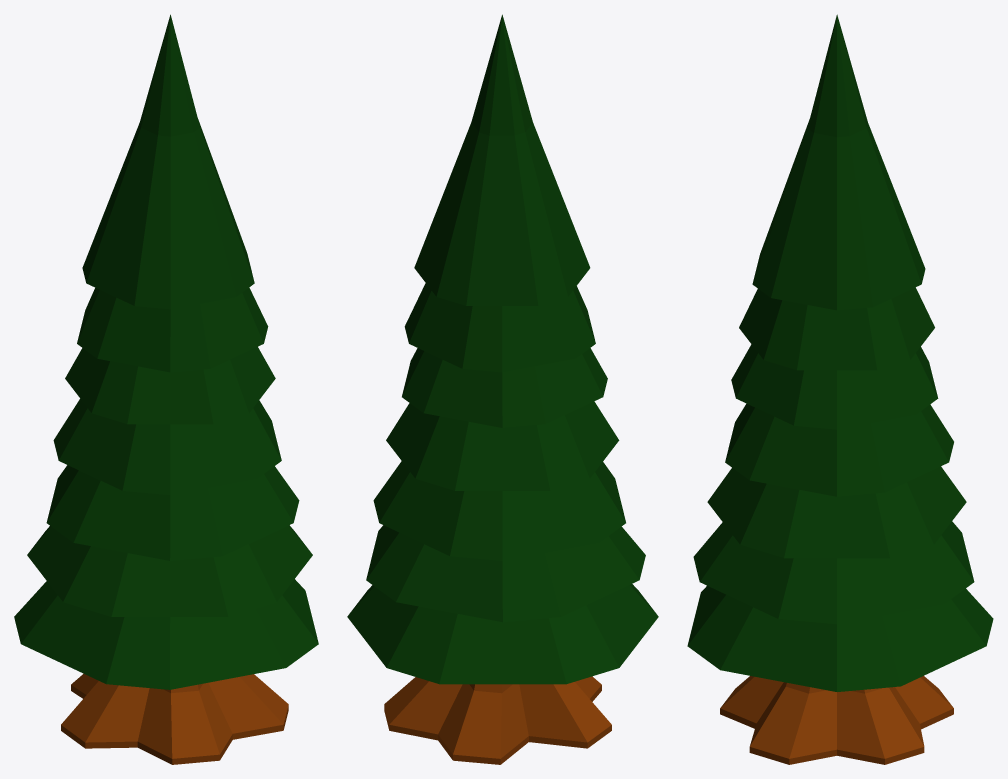
Rendered from Mid Tree.fbx.
The picture shows the model from 3 angles, left to right: view 1: azimuth 30°, elevation 25°; view 2: azimuth 150°, elevation 25°; view 3: azimuth 270°, elevation 25°; orthographic projection.
Visible parts, largest first — view 1: Mid_Tree1; view 2: Mid_Tree1; view 3: Mid_Tree1.
Boxes of the visible parts, <box> form: Mid_Tree1: <box>14,14,318,764</box>; Mid_Tree1: <box>347,14,658,764</box>; Mid_Tree1: <box>687,14,993,764</box>.
Bounding box in the file's own units: 3.73 × 9.33 × 3.67.
